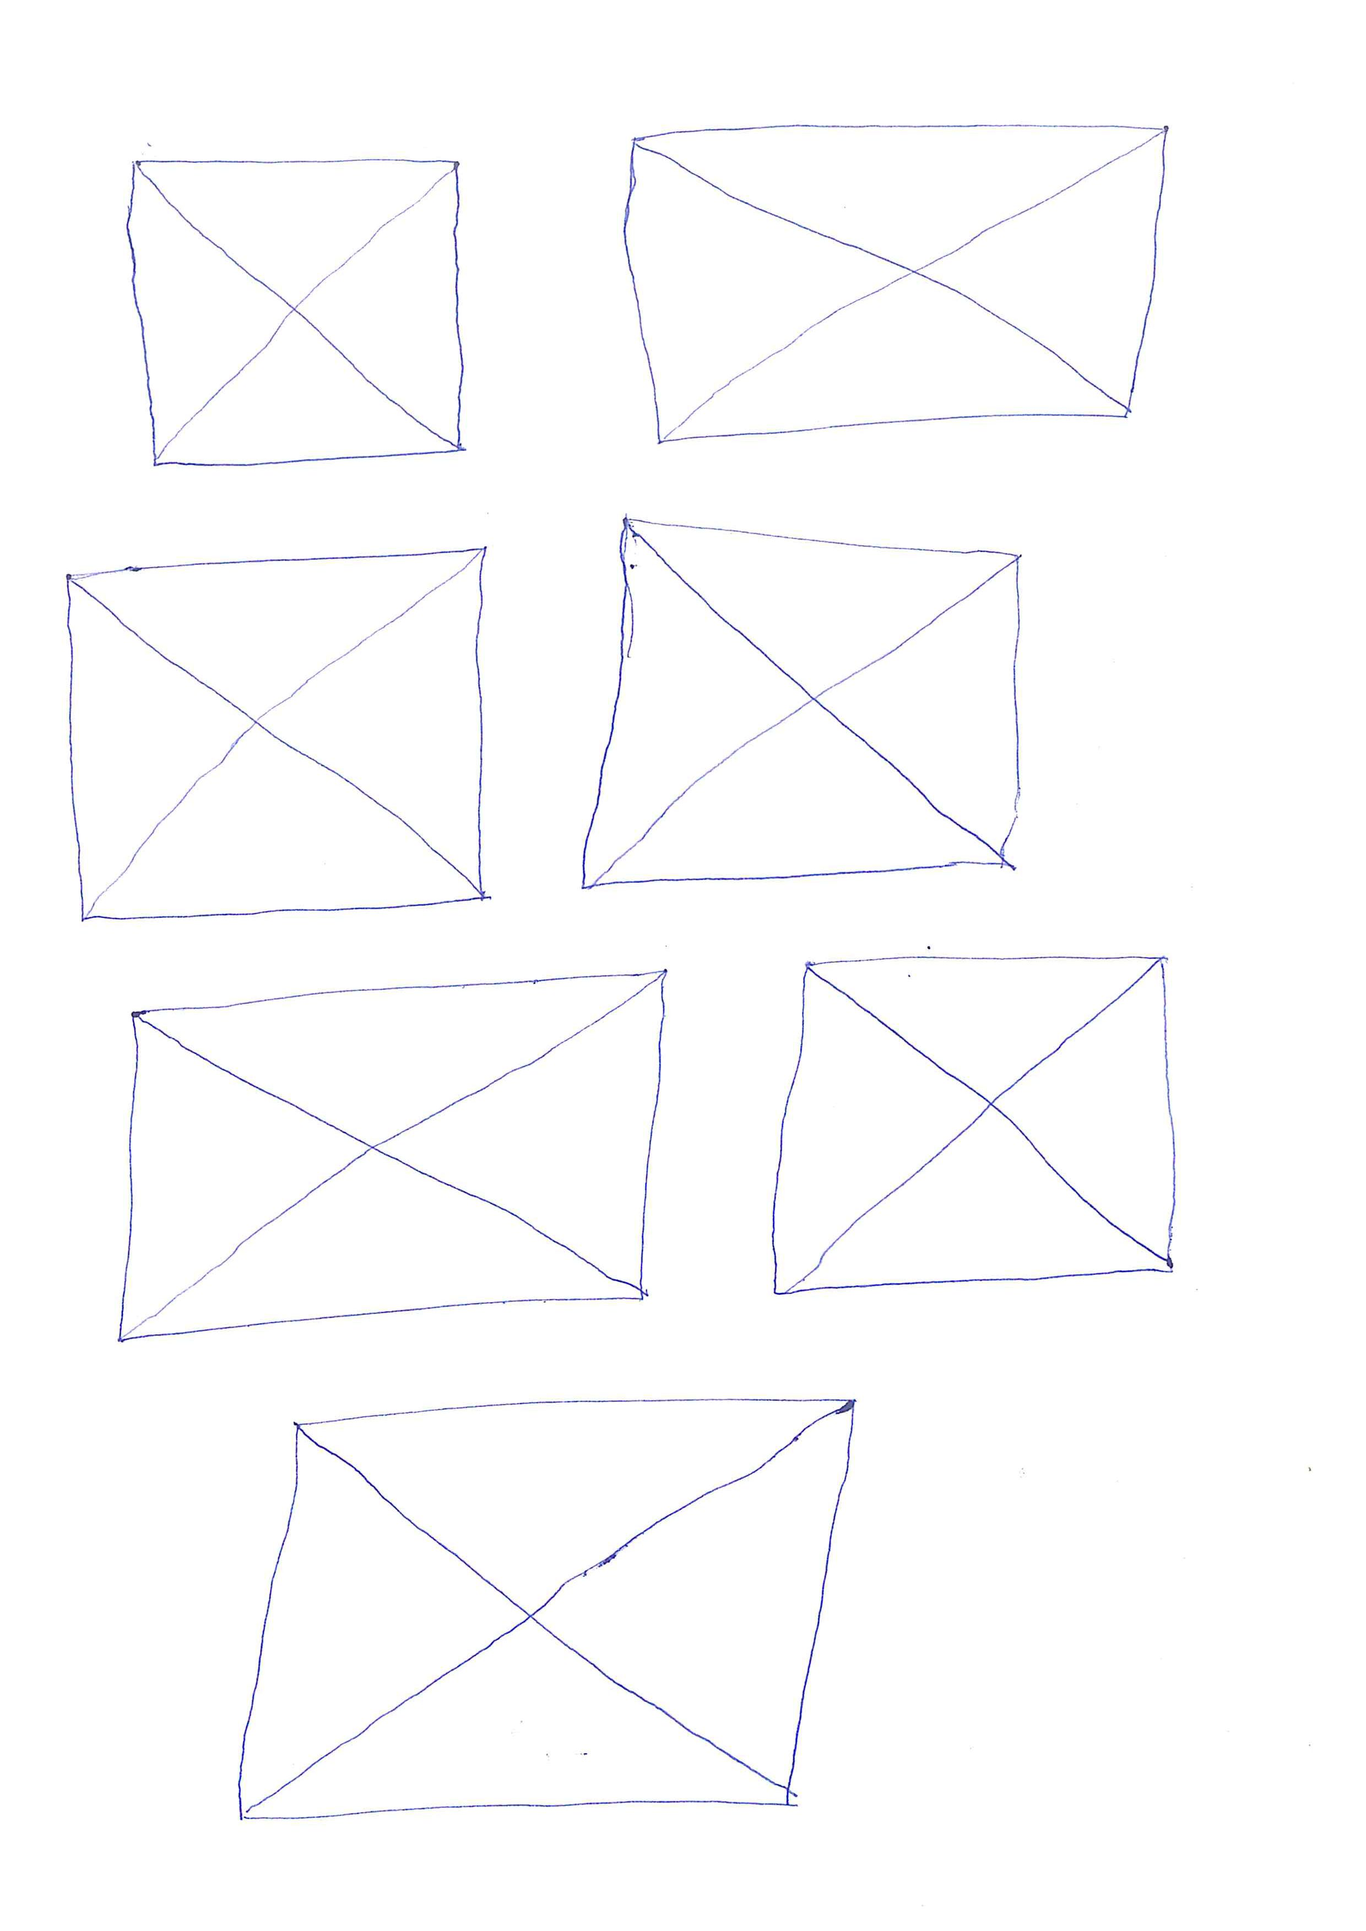Image: (228, 1388, 862, 1823), (112, 963, 674, 1350), (618, 117, 1174, 447), (577, 509, 1027, 895), (59, 544, 495, 929), (764, 946, 1180, 1303), (118, 149, 475, 473)
